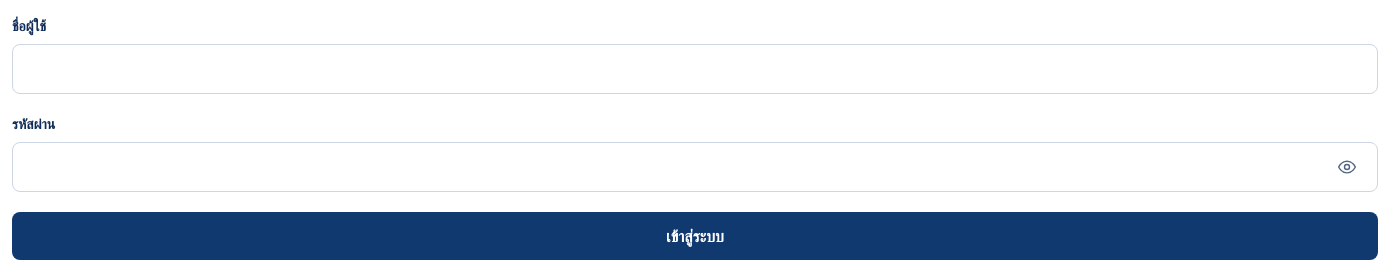
Test: hands the token set to session and routes must_change_password=false correctly
In the field labelled "ชื่อผู้ใช้": [695, 69] box left=27, top=45, right=1363, bottom=93, type " synthetic-user "
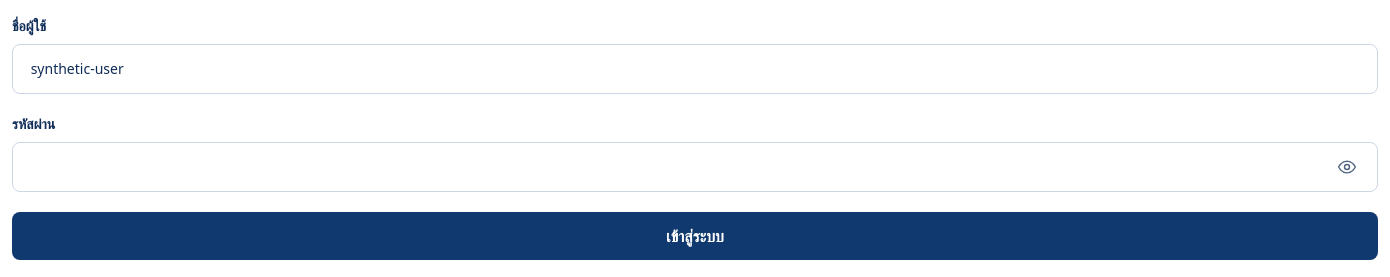
In the password field labelled "รหัสผ่าน": [673, 167] box left=27, top=143, right=1319, bottom=191, type "synthetic-password"
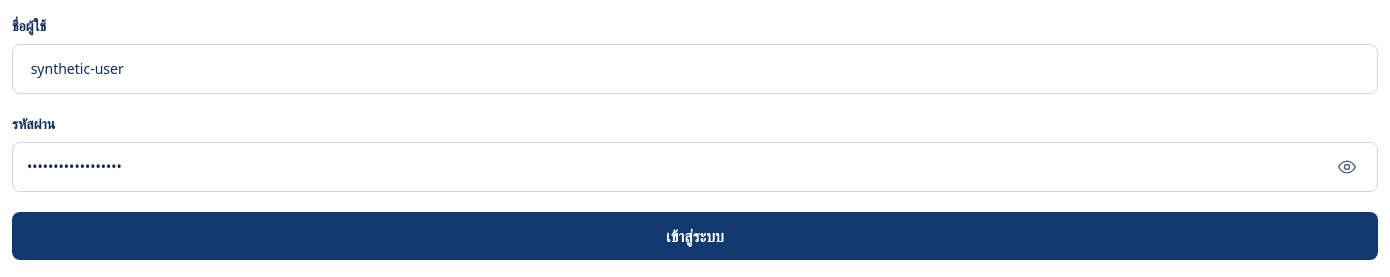
Click the button "เข้าสู่ระบบ": [695, 236] box left=12, top=212, right=1378, bottom=260
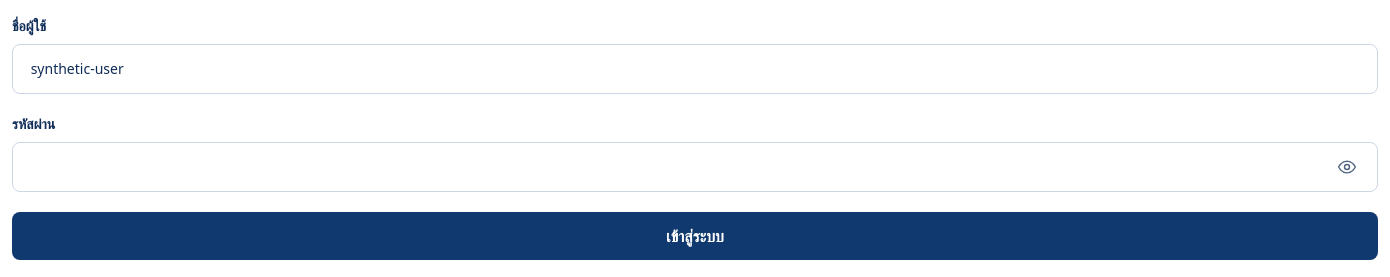
Now the password field labelled "รหัสผ่าน" is empty, box left=27, top=143, right=1319, bottom=191
